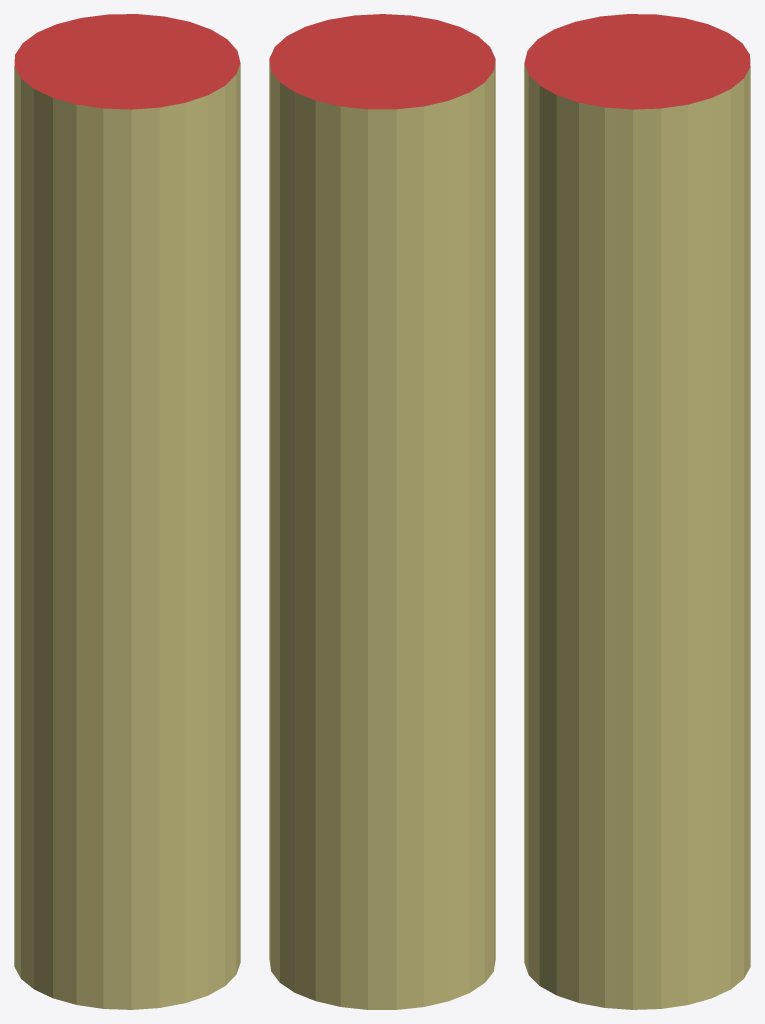
3 views of the same model, side by side, from view 1: azimuth 30°, elevation 25°; view 2: azimuth 150°, elevation 25°; view 3: azimuth 270°, elevation 25° (orthographic).
Size of the model in its own units: 2.13 by 2.13 by 9.36.
